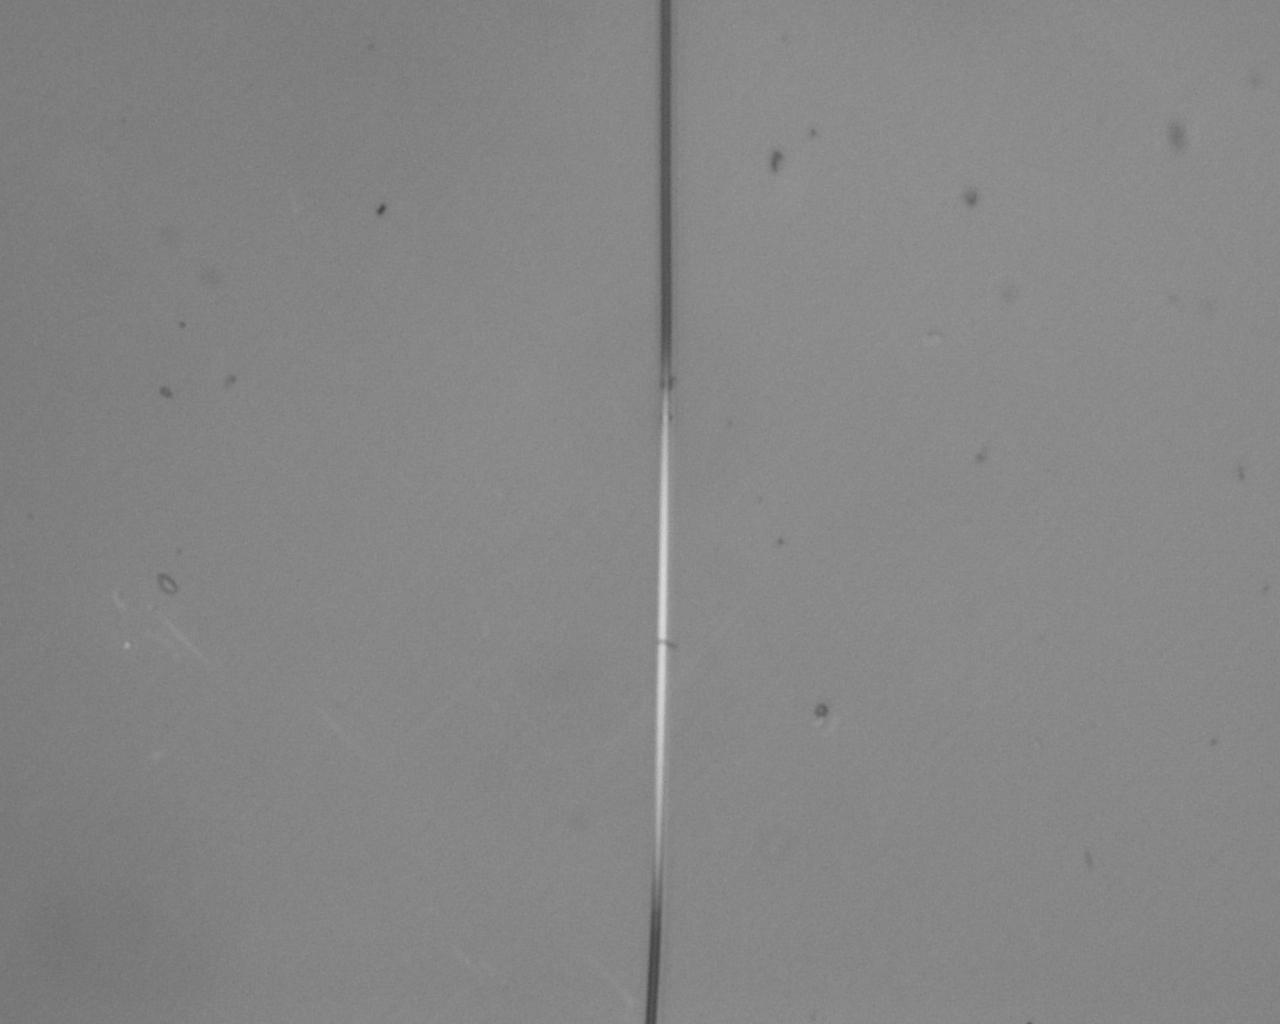fiber: (645, 2, 670, 1024)
